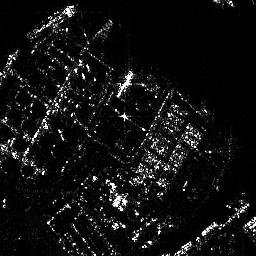ship: (25, 2, 79, 40), (115, 69, 136, 99)
